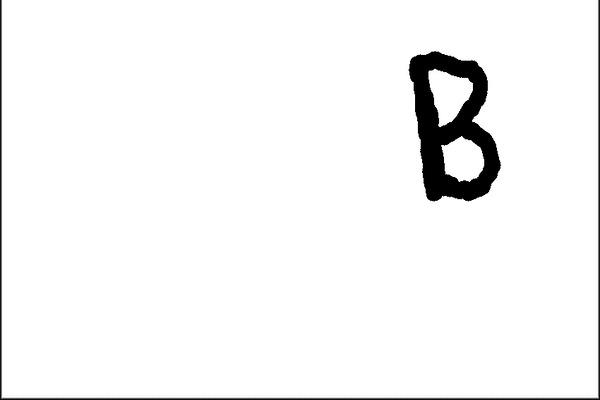B: (398, 42, 515, 211)
